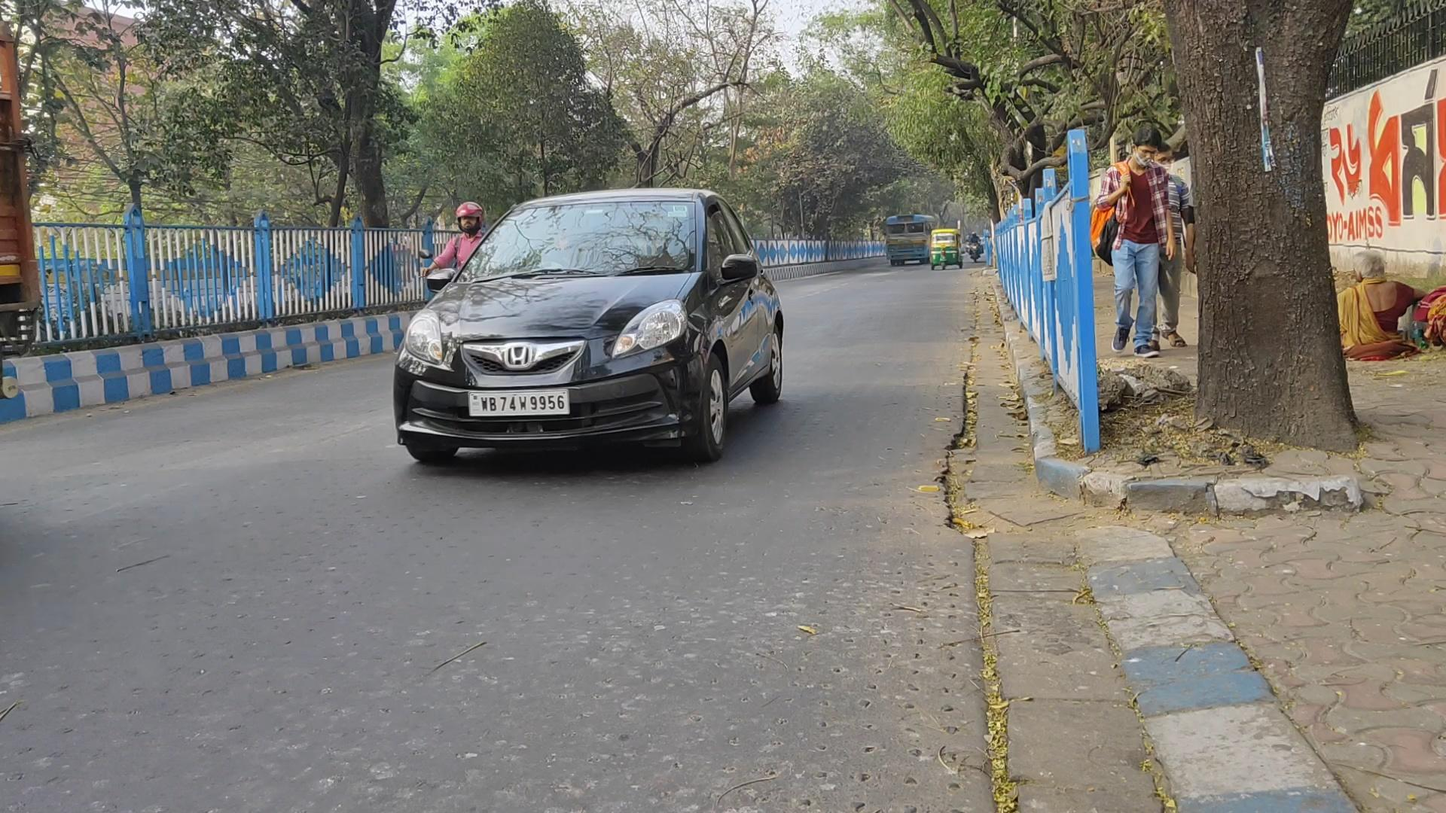Auto: (929, 225, 959, 265)
Bus: (883, 214, 941, 268)
bike: (966, 231, 983, 263)
car: (397, 189, 785, 466)
